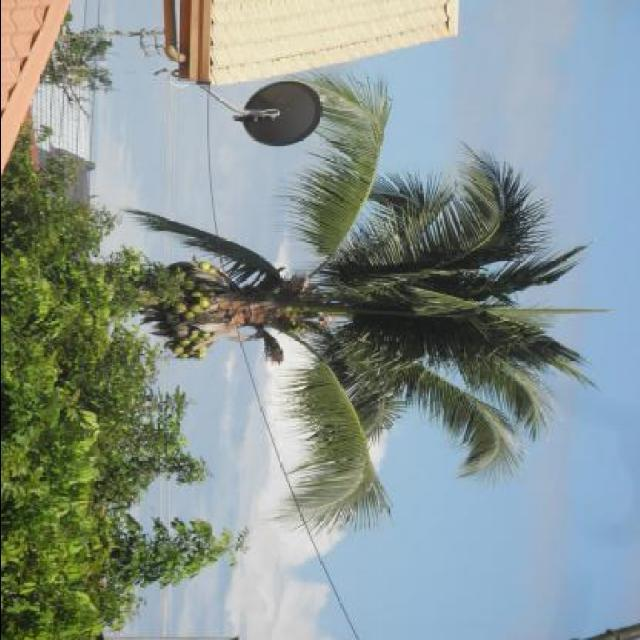Coconut: (168, 263, 224, 320), (172, 326, 214, 358)
